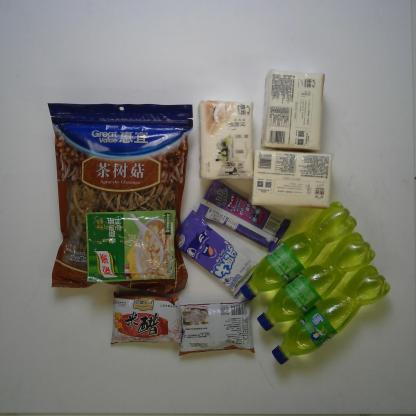Candy: (175, 207, 261, 299), (194, 178, 292, 256)
Dried Food: (46, 101, 196, 296)
Drink: (270, 263, 392, 367), (236, 199, 358, 302), (254, 230, 376, 332)
Seasoner: (84, 209, 178, 283), (177, 298, 256, 358), (108, 287, 184, 349)
Tissue: (259, 67, 326, 153), (248, 147, 334, 211), (196, 97, 255, 184)
